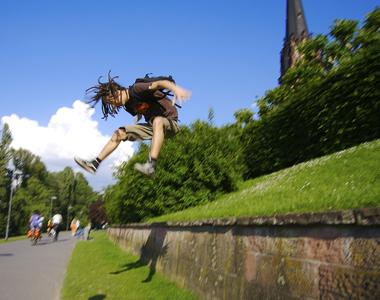person: (79, 73, 190, 179)
